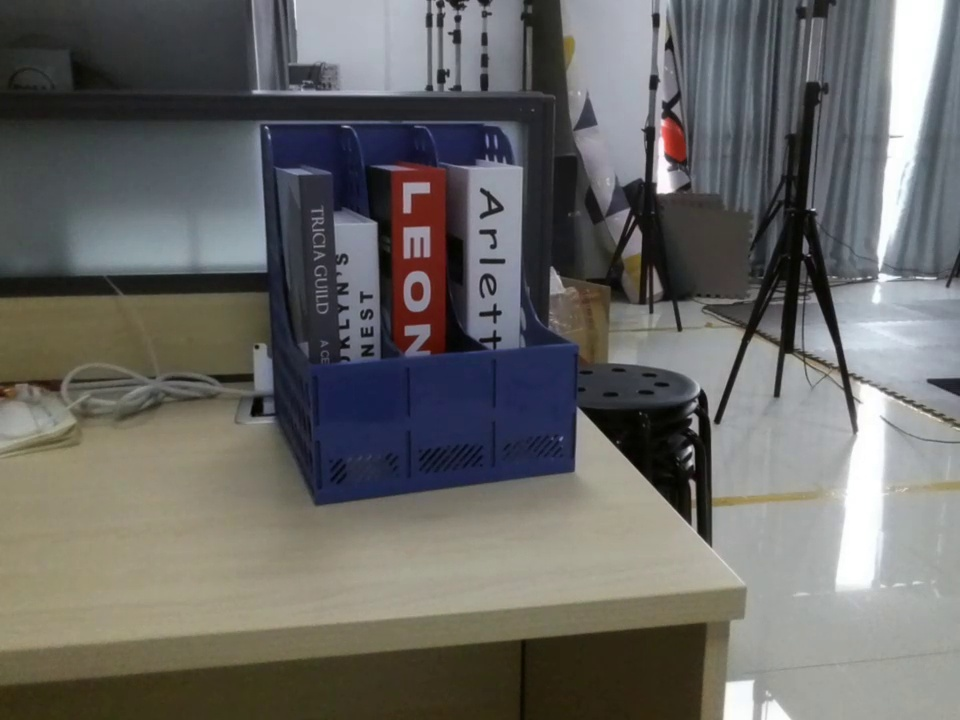files: (257, 122, 579, 506)
